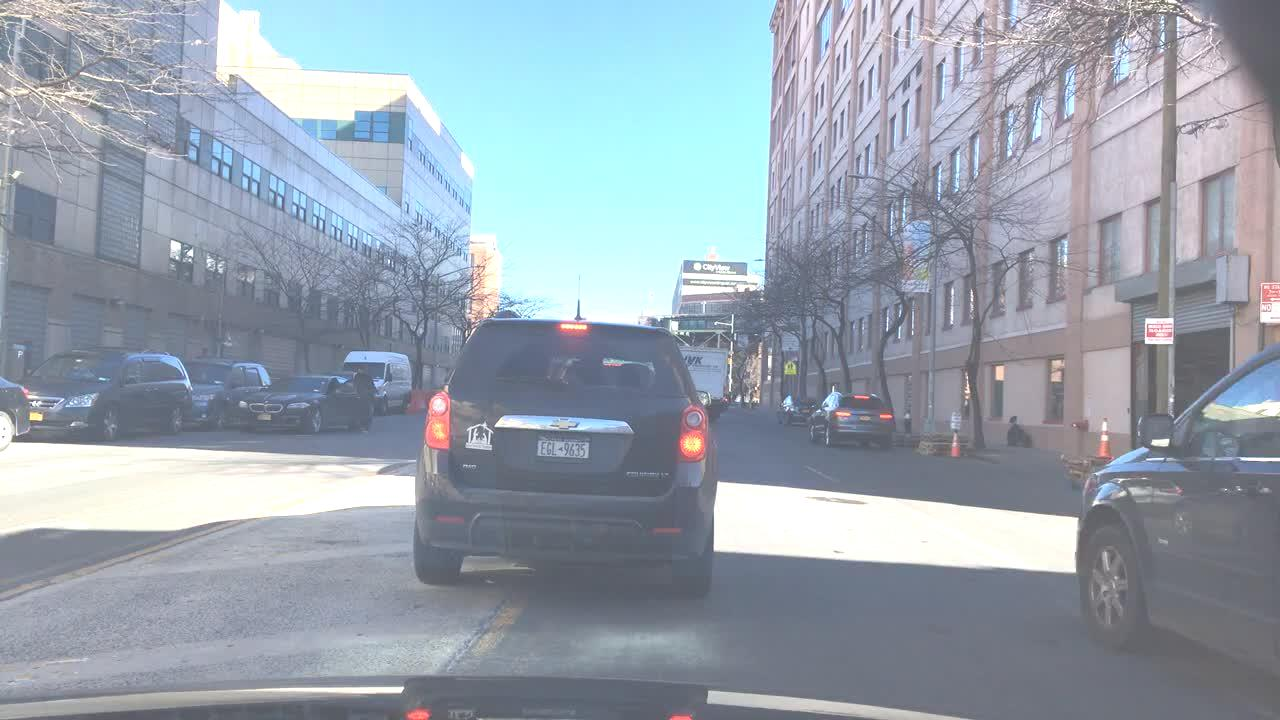chevrolet: (549, 412, 584, 434)
